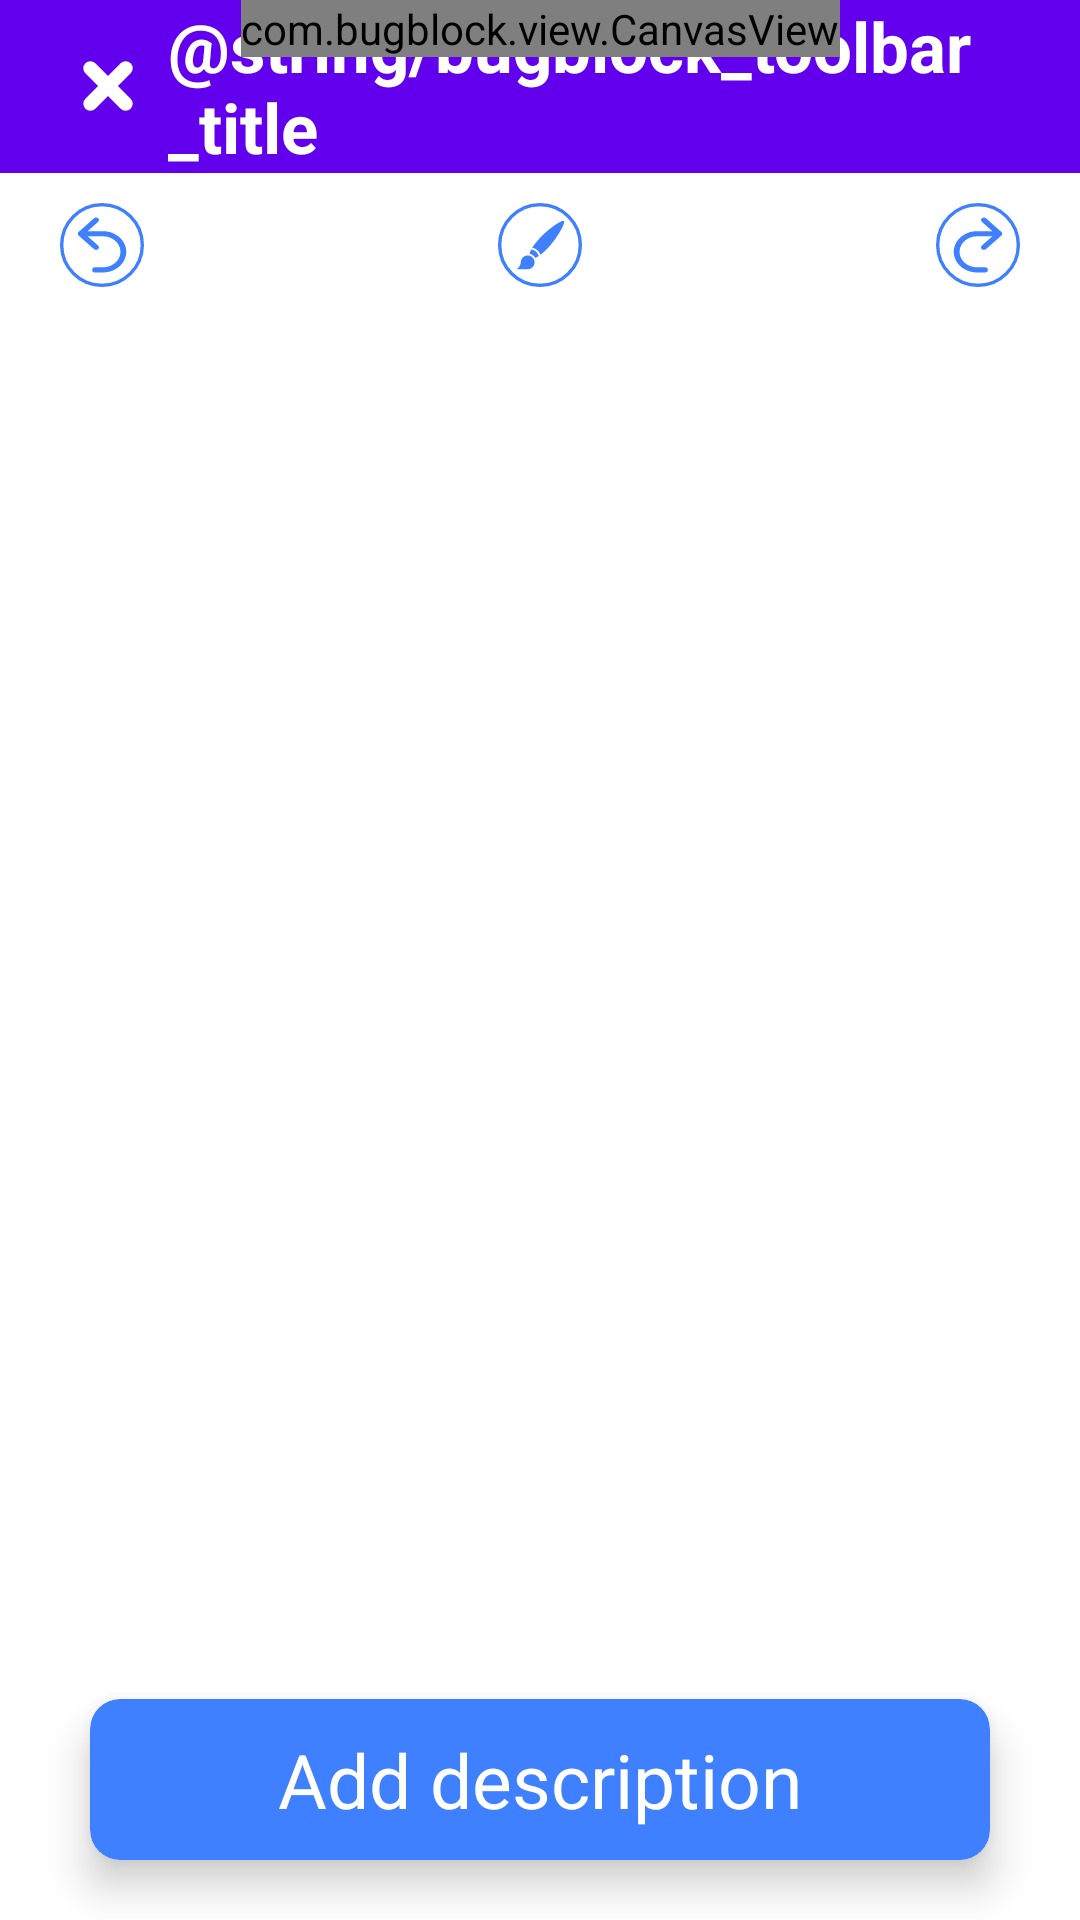

Icon click points for this 1080×1920 phone screenshot, format (x,y):
paint brush: (540,245)
redo arrow: (978,245)
remove: (108,86)
undo arrow: (102,245)
